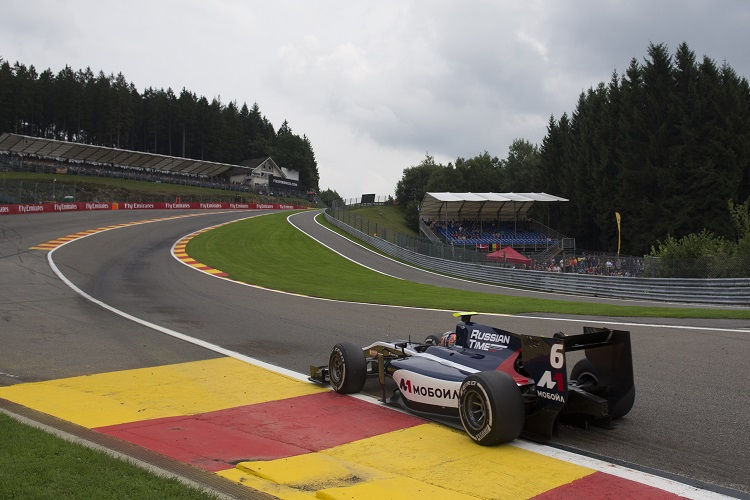race car: (304, 309, 638, 448)
